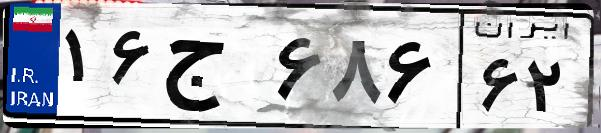1: (57, 26, 110, 100)
2: (525, 38, 570, 115)
6: (270, 28, 330, 110), (385, 28, 445, 110), (475, 38, 525, 113), (110, 28, 158, 98)
8: (330, 28, 385, 110)
ج: (158, 20, 270, 120)
